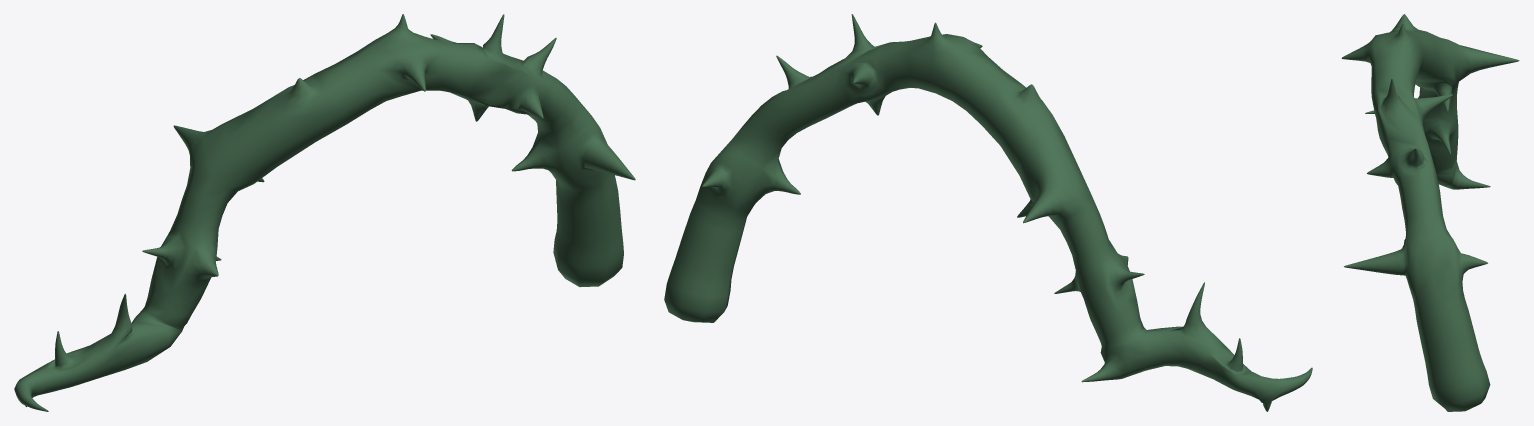
3 views of the same model, side by side, from view 1: azimuth 30°, elevation 25°; view 2: azimuth 150°, elevation 25°; view 3: azimuth 270°, elevation 25° (orthographic). The views are drawn at different scales.
Visible parts, largest first — view 1: Vert; view 2: Vert; view 3: Vert.
Part boxes in pixels (x1,y1,x2,y2): Vert: (14,14,635,411); Vert: (664,14,1312,411); Vert: (1341,14,1519,411).
Size of the model in its own units: 17.25 by 4.91 by 8.93.
